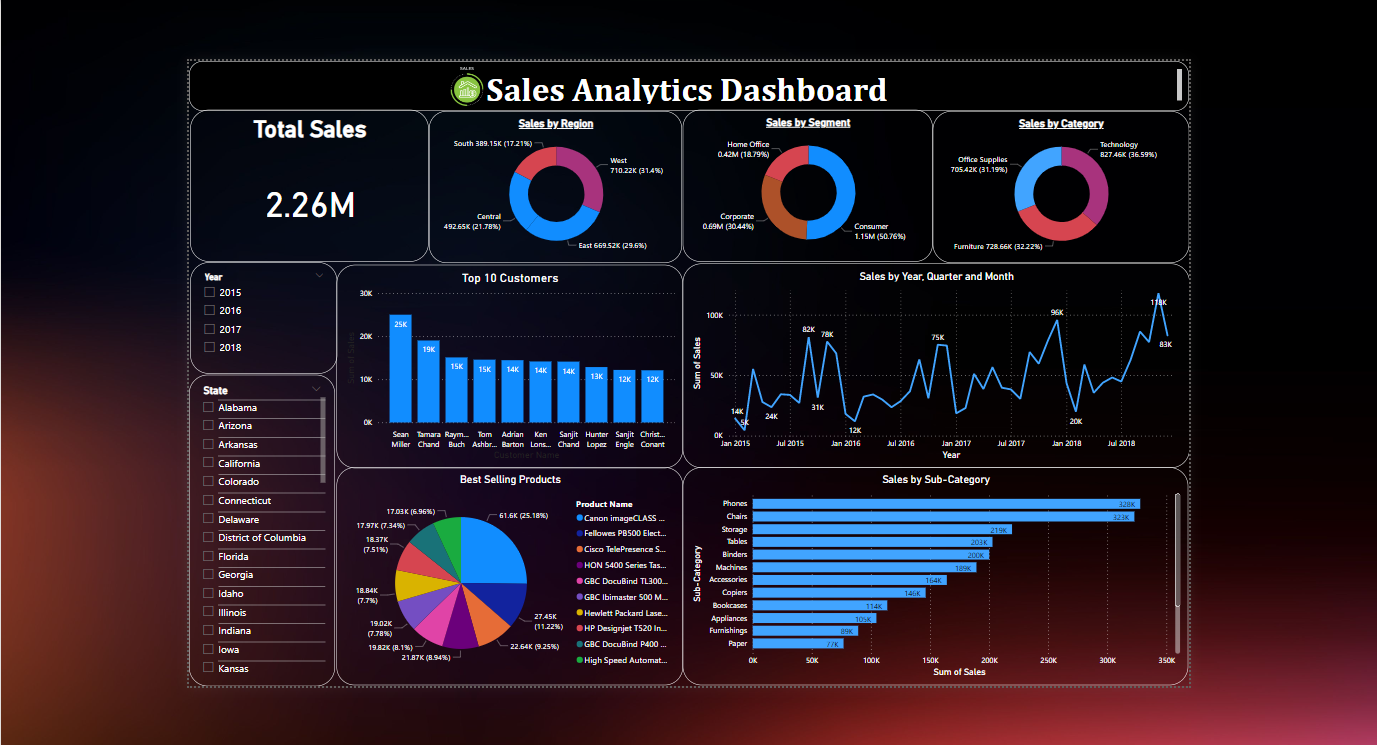

What the dashboard file says about the page in this screenshot:
{"tool":"powerbi","page":{"name":"Page 1","canvas":[1600,1000],"ordinal":0},"visuals":[{"type":"textbox","box":[0,0,1600,80],"z":0},{"type":"image","box":[413.3,3.3,61.7,73.3],"z":1000},{"type":"donutChart","title":"Sales by Category","fields":{"Category":["supermarket_sales.Category"],"Y":["supermarket_sales.Sales"]},"box":[1190,80,410,243.3],"z":2000},{"type":"donutChart","title":"Sales by Segment","fields":{"Y":["supermarket_sales.Sales"],"Category":["supermarket_sales.Segment"]},"box":[790,78.3,400,243.3],"z":3000},{"type":"donutChart","title":"Sales by Region","fields":{"Y":["supermarket_sales.Sales"],"Category":["supermarket_sales.Region"]},"box":[383.3,80,405,243.3],"z":4000},{"type":"barChart","title":" Sales by Sub-Category","fields":{"Category":["supermarket_sales.Sub-Category"],"Y":["supermarket_sales.Sales"]},"box":[790.9,650.9,809.1,349.1],"z":5000},{"type":"lineChart","title":"Sales by Year, Quarter and Month","fields":{"Y":["supermarket_sales.Sales"],"Category":["supermarket_sales.Order Date.Variation.Date Hierarchy.Year","supermarket_sales.Order Date.Variation.Date Hierarchy.Quarter","supermarket_sales.Order Date.Variation.Date Hierarchy.Month"]},"box":[789.1,323.6,810.9,327.3],"z":6000},{"type":"slicer","fields":{"Values":["supermarket_sales.State"]},"box":[0,501.7,233.3,498.3],"z":7000},{"type":"card","title":"Total Sales","fields":{"Values":["supermarket_sales.Sales"]},"box":[1.7,78.3,381.7,243.3],"z":8000},{"type":"slicer","fields":{"Values":["supermarket_sales.Order Date.Variation.Date Hierarchy.Year"]},"box":[1.7,321.7,235,178.3],"z":9000},{"type":"columnChart","title":"Top 10 Customers","fields":{"Category":["supermarket_sales.Customer Name"],"Y":["supermarket_sales.Sales"]},"box":[236.4,325.5,554.5,325.5],"z":9001},{"type":"pieChart","title":"Best Selling Products","fields":{"Category":["supermarket_sales.Product Name"],"Y":["supermarket_sales.Sales"]},"box":[236.4,650.9,554.5,349.1],"z":9002}]}

Visuals, with their boxes on the page's 1600x1000 design canvas (x1, y1, x2, y2). These are canvas units, not pixel positions in the 1377x745 screenshot, which may show the page scaled, cropped or inside an application window:
textbox: (0, 0, 1600, 80)
image: (413, 3, 475, 77)
"Sales by Category" donutChart: (1190, 80, 1600, 323)
"Sales by Segment" donutChart: (790, 78, 1190, 322)
"Sales by Region" donutChart: (383, 80, 788, 323)
" Sales by Sub-Category" barChart: (791, 651, 1600, 1000)
"Sales by Year, Quarter and Month" lineChart: (789, 324, 1600, 651)
slicer - supermarket_sales.State: (0, 502, 233, 1000)
"Total Sales" card: (2, 78, 383, 322)
slicer - supermarket_sales.Order Date.Variation.Date Hierarchy.Year: (2, 322, 237, 500)
"Top 10 Customers" columnChart: (236, 326, 791, 651)
"Best Selling Products" pieChart: (236, 651, 791, 1000)
